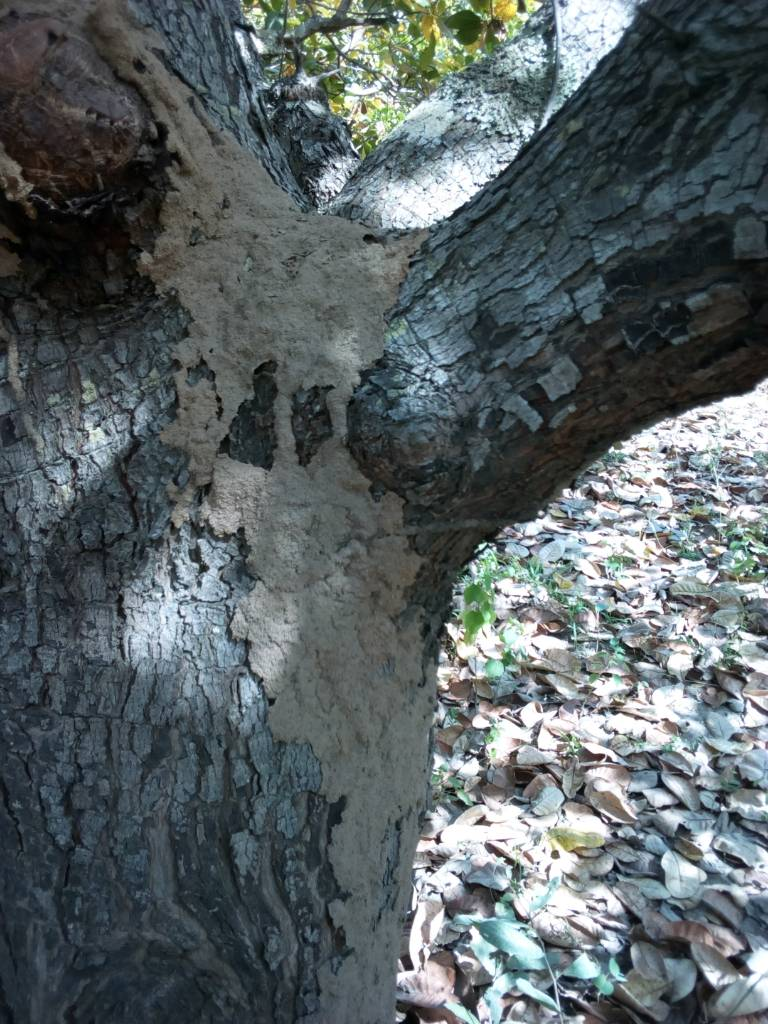Termites: (222, 439, 430, 1019), (133, 78, 396, 428)
